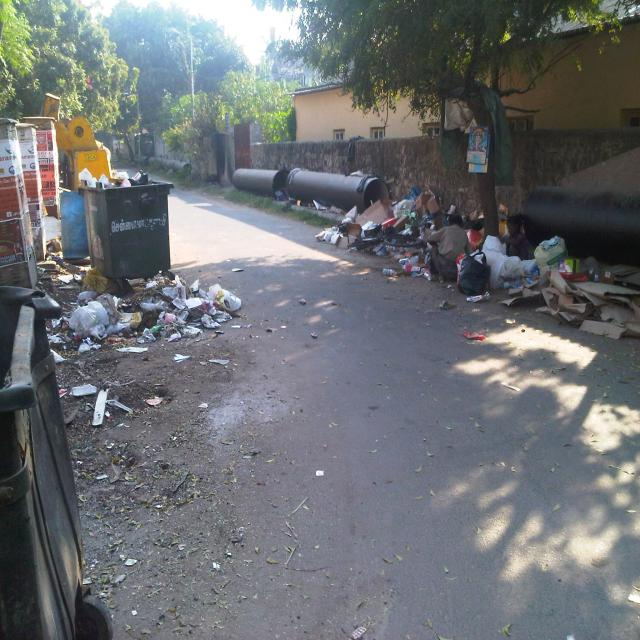garbage: (32, 208, 639, 456)
